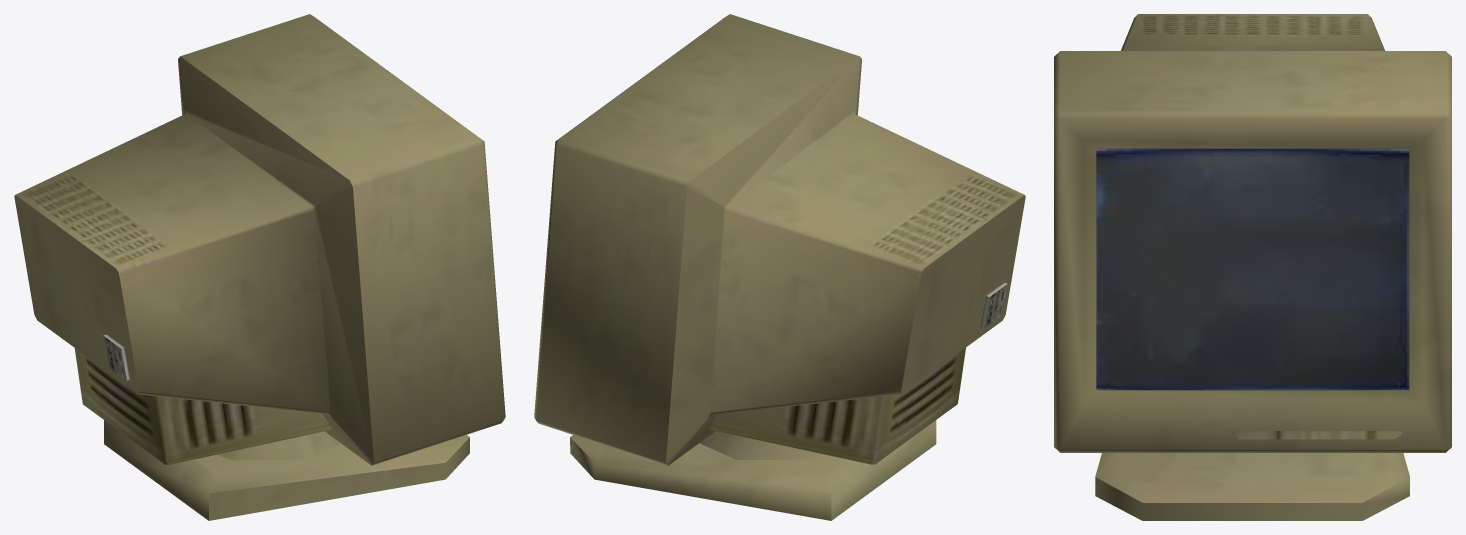
Rendered from silo_launchroom_monitor.glb.
3 views of the same model, side by side, from view 1: azimuth 30°, elevation 25°; view 2: azimuth 150°, elevation 25°; view 3: azimuth 270°, elevation 25° (orthographic). The views are drawn at different scales.
Parts seen in each view (by area): view 1: 0_silo_launchroom_monitor; view 2: 0_silo_launchroom_monitor; view 3: 0_silo_launchroom_monitor, 1_launchRoomDisplayOff.
Boxes of the visible parts, x1=… form: 0_silo_launchroom_monitor: x1=14, y1=14, x2=505, y2=520; 0_silo_launchroom_monitor: x1=534, y1=14, x2=1025, y2=520; 0_silo_launchroom_monitor: x1=1054, y1=14, x2=1451, y2=520; 1_launchRoomDisplayOff: x1=1096, y1=148, x2=1409, y2=390.
Size of the model in its own units: 0.6938 by 0.6428 by 0.5859.
2 materials, 2 textured.
